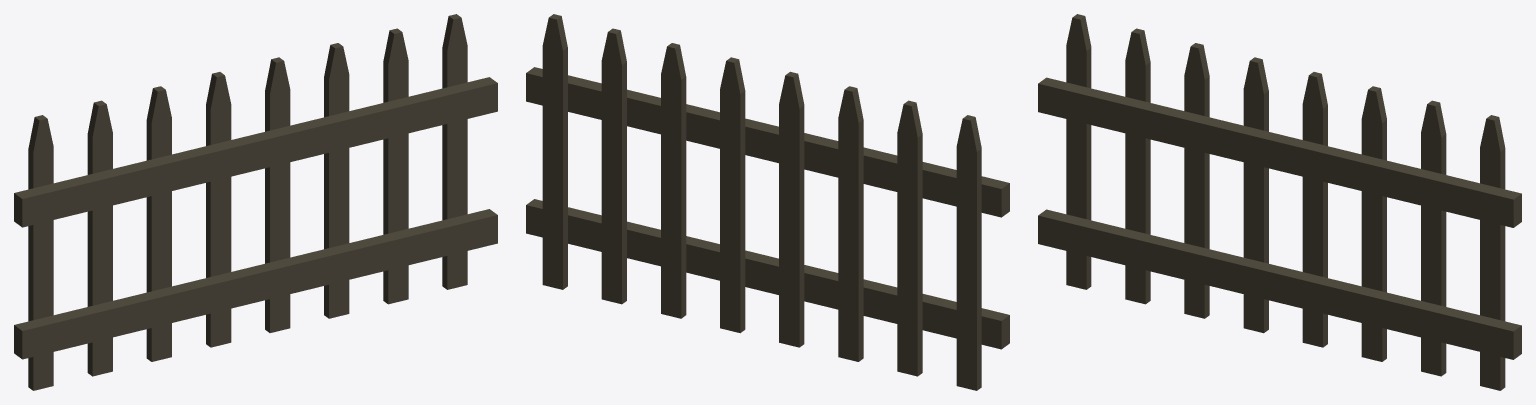
File: Fence.fbx
3 renders of one model, left to right at view 1: azimuth 30°, elevation 25°; view 2: azimuth 150°, elevation 25°; view 3: azimuth 330°, elevation 25°, orthographic.
Visible parts, largest first — view 1: Fence; view 2: Fence; view 3: Fence.
Part boxes in pixels (x1=…): Fence: x1=14, y1=14, x2=497, y2=390; Fence: x1=526, y1=14, x2=1009, y2=390; Fence: x1=1038, y1=14, x2=1521, y2=390.
Bounding box in the file's own units: 264 × 12.95 × 143.
